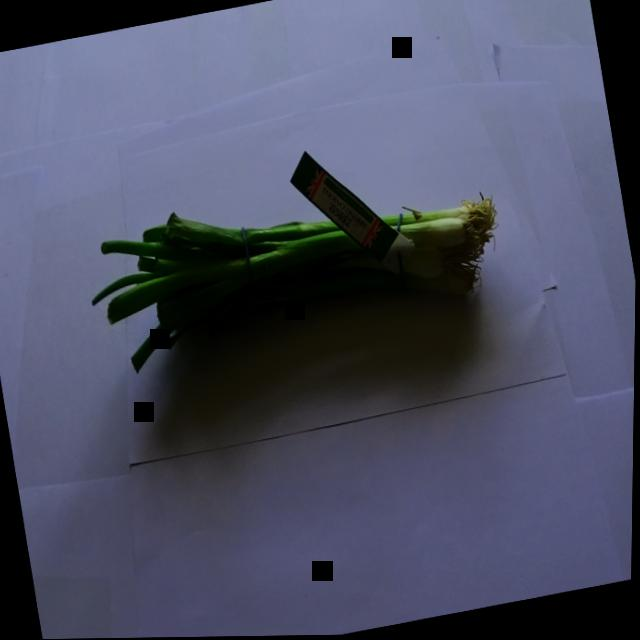Springonion: (63, 98, 536, 409)
